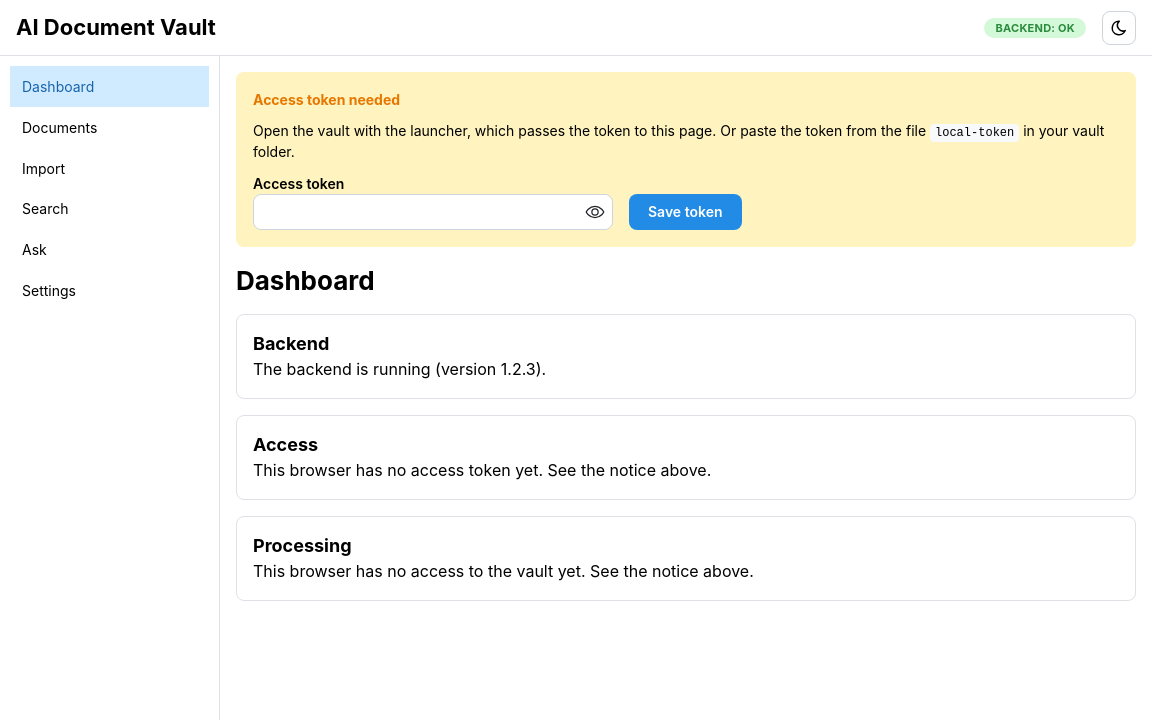
Test: navigation › opens the Settings placeholder
This screenshot has width=1152, height=720.
Click the link "Settings": x=49, y=290 [22, 282, 76, 299]
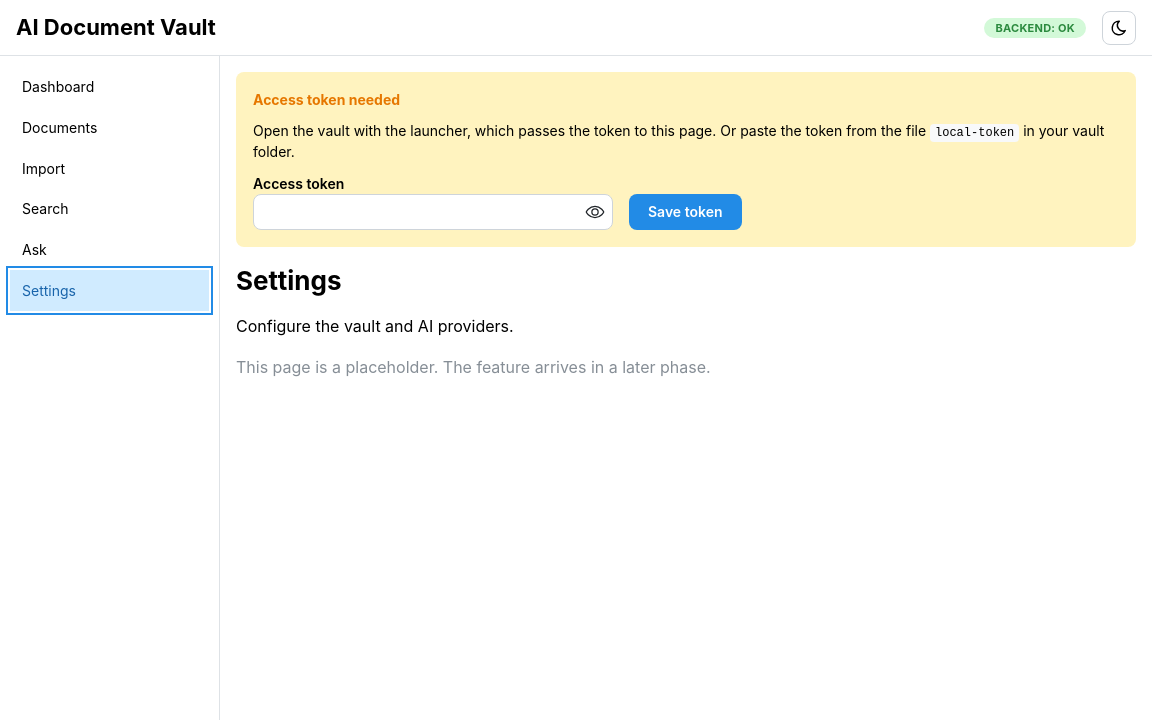
Check: the heading "Settings" is shown, box [236, 265, 342, 296]
Check: the text "Configure the vault and AI providers." is shown, box [236, 316, 514, 336]
